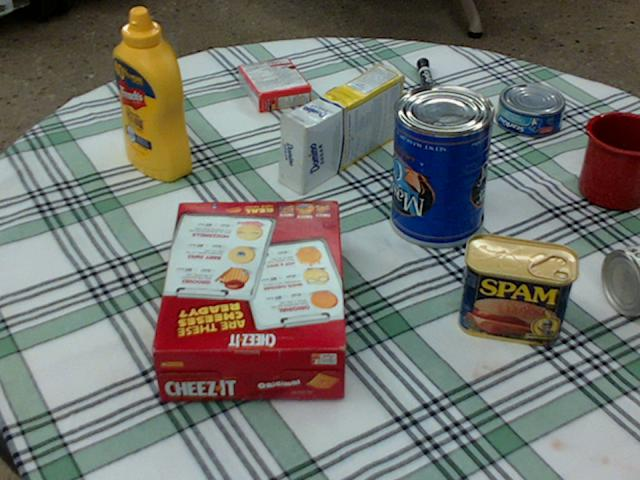cracker_box: (151, 201, 347, 401)
gelatin_box: (238, 58, 310, 111)
large_marker: (417, 57, 437, 108)
master_chef_can: (388, 83, 496, 245)
mug: (579, 112, 639, 210)
mustard_bottle: (113, 7, 190, 179)
potted_meat_can: (458, 233, 577, 344)
sugar_box: (279, 63, 403, 194)
tomato_soup_can: (603, 244, 639, 314)
tuna_fish_can: (497, 83, 565, 136)
